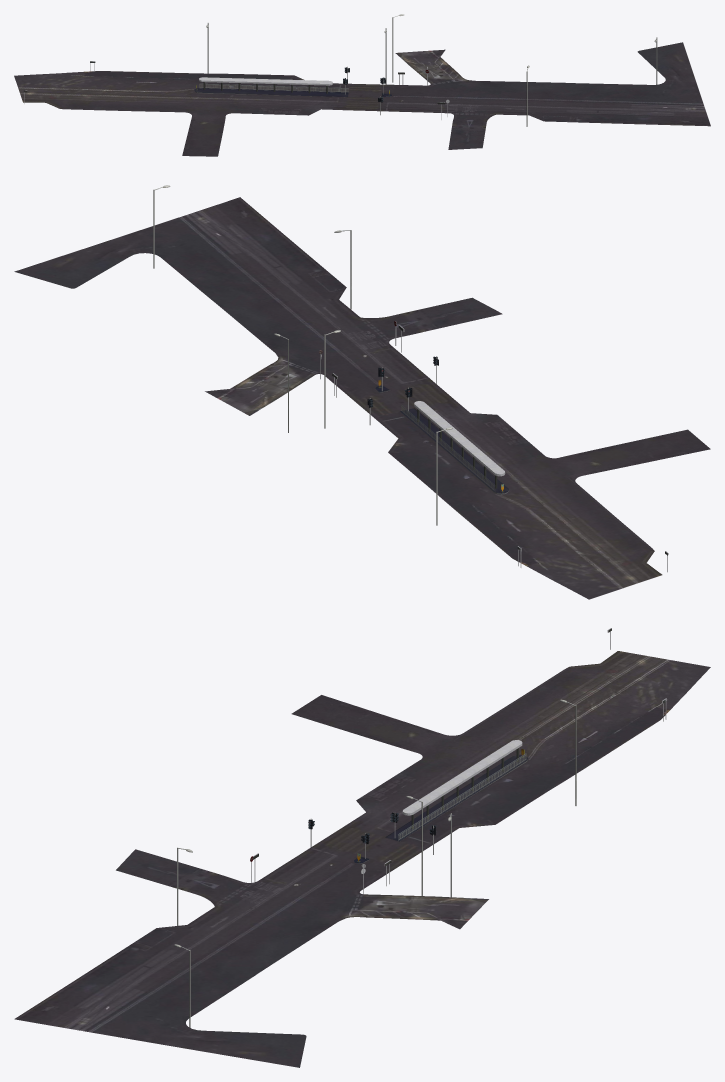
File: gresson-fenwick.glb
3 renders of one model, top to bottom at view 1: azimuth 30°, elevation 25°; view 2: azimuth 150°, elevation 25°; view 3: azimuth 270°, elevation 25°, orthographic. The views are drawn at different scales.
Parts seen in each view (by area): view 1: gresson-fenwick; view 2: gresson-fenwick; view 3: gresson-fenwick.
Part boxes in pixels (x1,y1,x2,y2): gresson-fenwick: (14,14,710,156); gresson-fenwick: (14,185,710,599); gresson-fenwick: (14,628,710,1067).
Bounding box in the file's own units: 117 × 13.33 × 82.45.
8 materials, 8 textured.
